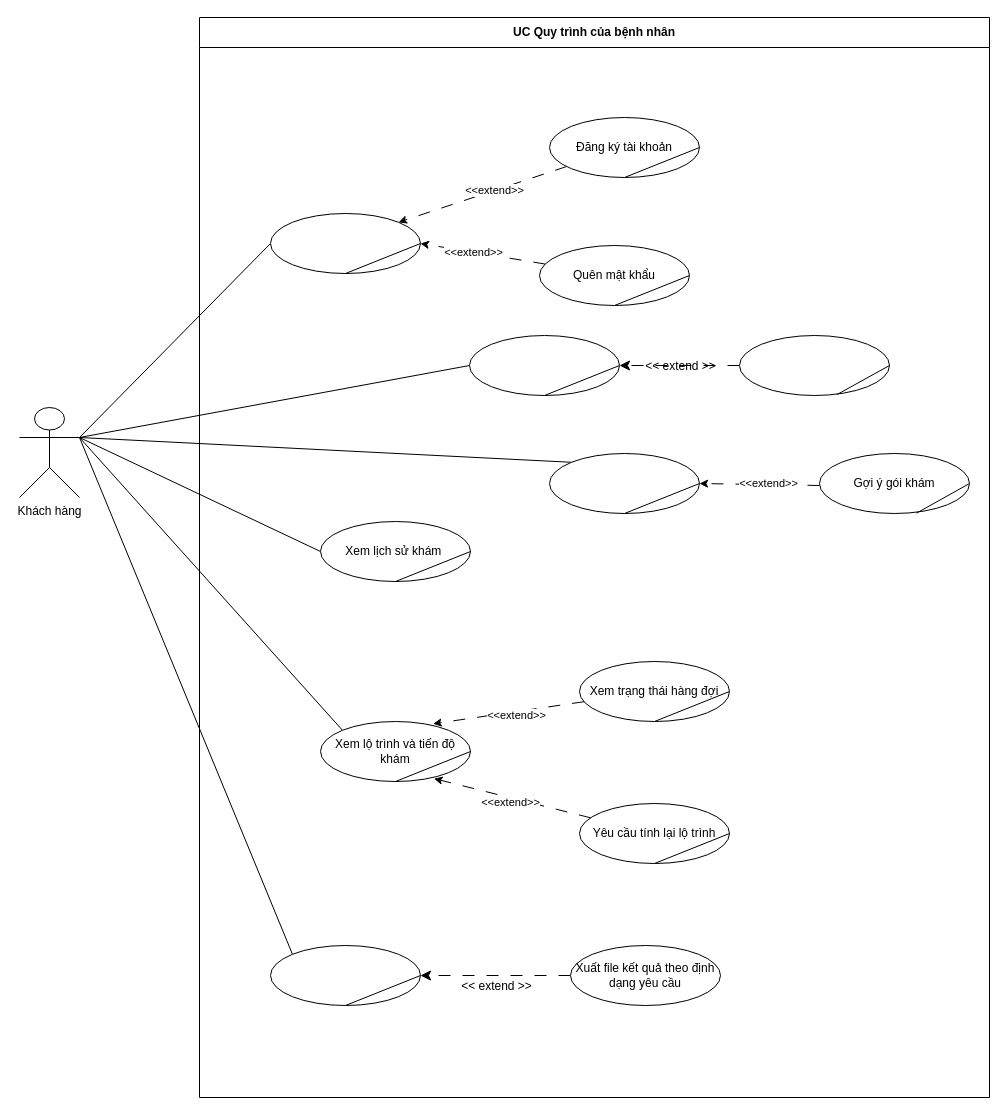
This 1007x1115 diagram has some shape labels left out. The centre of each missing label's shape, as x and y in pixels:
Cập nhật thông tin tài Khoản: pixel 814 365
Nhận kết luận/ kết quả khám: pixel 345 975
Xem thông tin tài khoản: pixel 544 365
Xem và đăng kí gói khám: pixel 624 483
Đăng nhập: pixel 345 243
